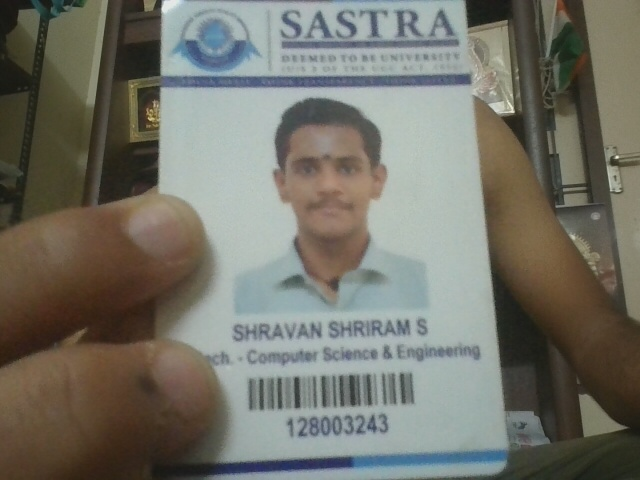fake: (272, 123, 383, 234)
